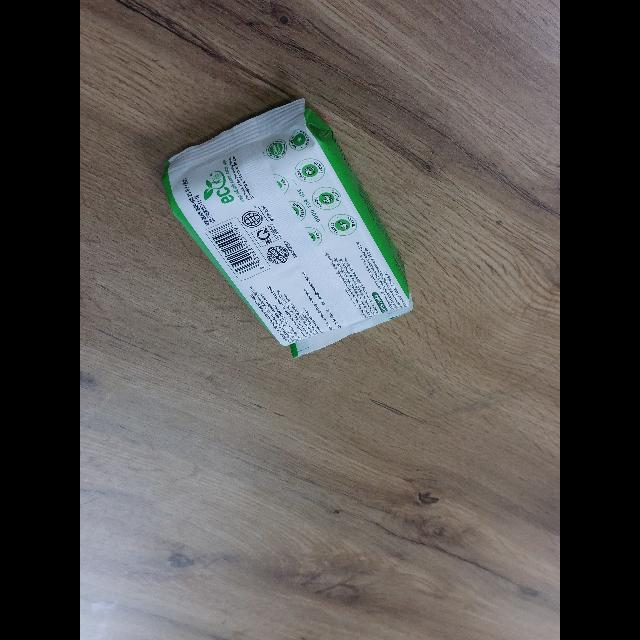khan_giay: (161, 95, 414, 358)
